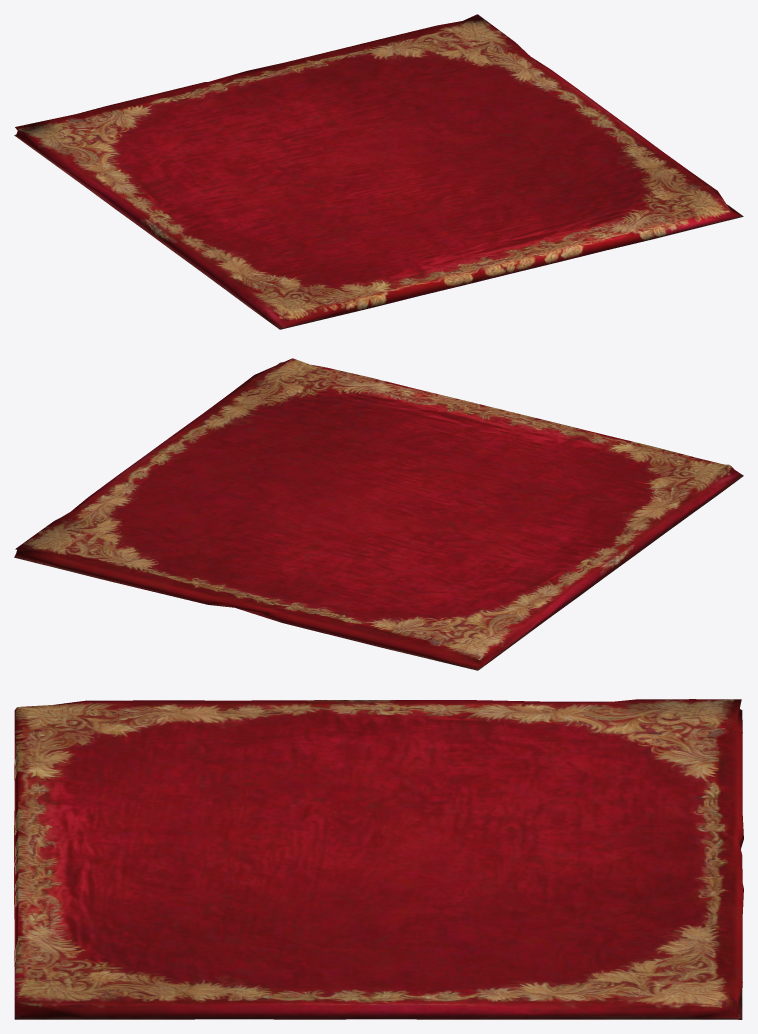
Rendered from Meshy_AI_Generate_a_luxurious__0224030145_texture.glb.
The picture shows the model from 3 angles, top to bottom: view 1: azimuth 30°, elevation 25°; view 2: azimuth 150°, elevation 25°; view 3: azimuth 270°, elevation 25°; orthographic projection. The views are drawn at different scales.
Bounding box in the file's own units: 2 × 0.0384 × 1.99.
Materials: 1 (1 with a texture image).
